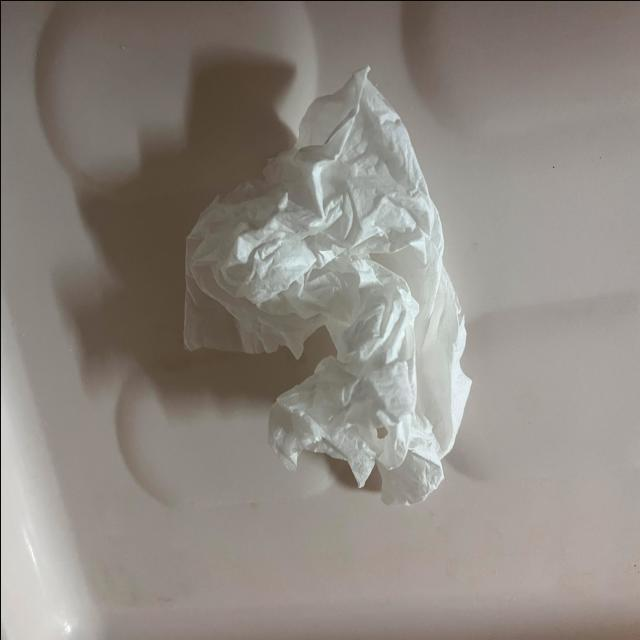Paper: (184, 68, 460, 494)
